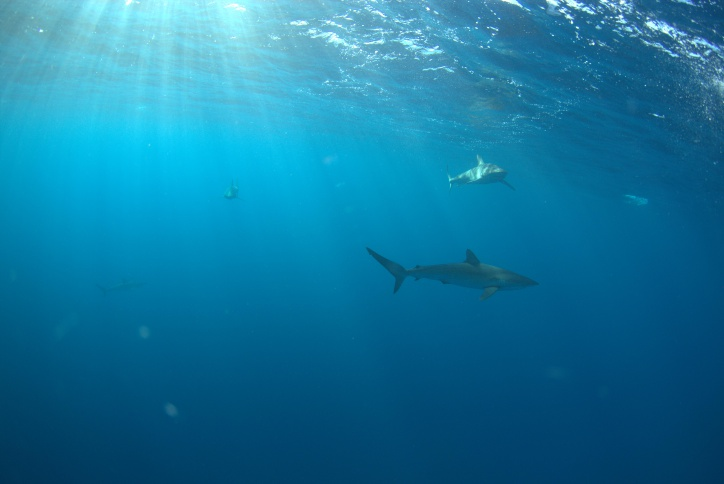Sedoso: (429, 151, 531, 191)
